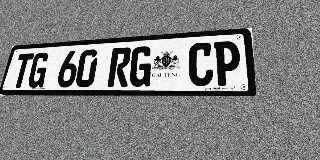0: (74, 49, 99, 87)
6: (56, 50, 80, 87)
C: (188, 42, 213, 86)
G: (128, 46, 153, 87), (26, 52, 50, 88)
P: (214, 40, 241, 86)
R: (107, 47, 132, 87)
T: (10, 53, 34, 88)
